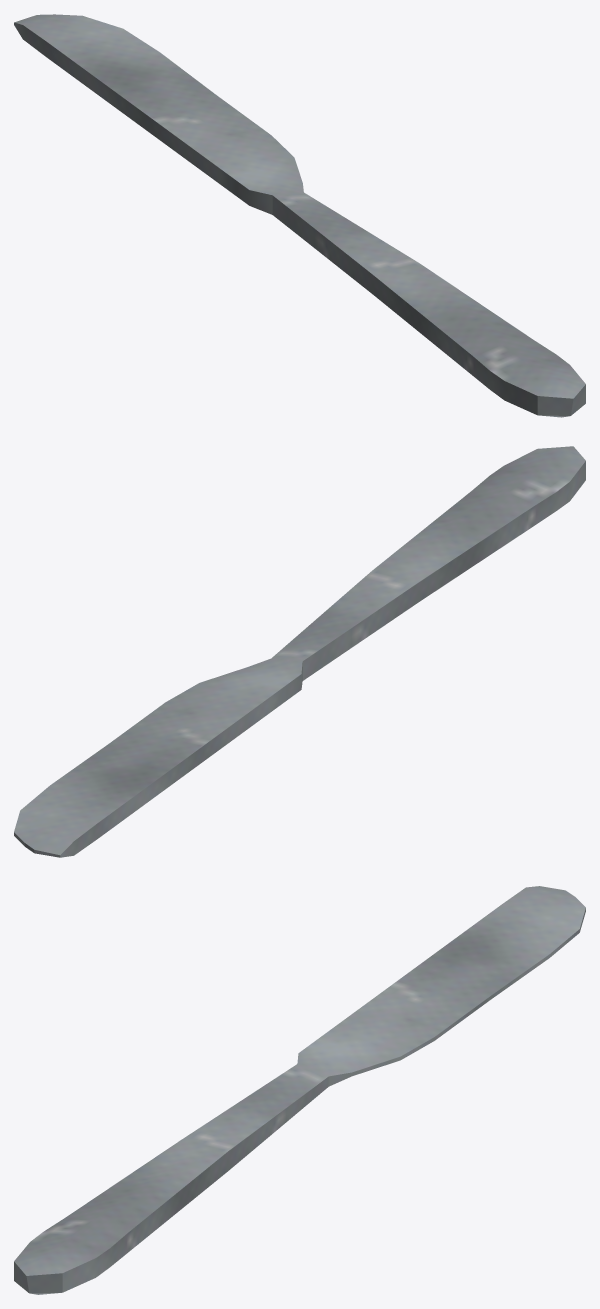
File: CutleryKnife.fbx
3 views of the same model, one above another, from view 1: azimuth 30°, elevation 25°; view 2: azimuth 150°, elevation 25°; view 3: azimuth 330°, elevation 25° (orthographic).
Parts seen in each view (by area): view 1: CutleryKnife; view 2: CutleryKnife; view 3: CutleryKnife.
Boxes of the visible parts, bbox=[...] form: CutleryKnife: bbox=[14, 14, 585, 417]; CutleryKnife: bbox=[14, 446, 585, 857]; CutleryKnife: bbox=[14, 886, 585, 1294].
Bounding box in the file's own units: 0.021 × 0.00788 × 0.2252.
1 material, 1 textured.
